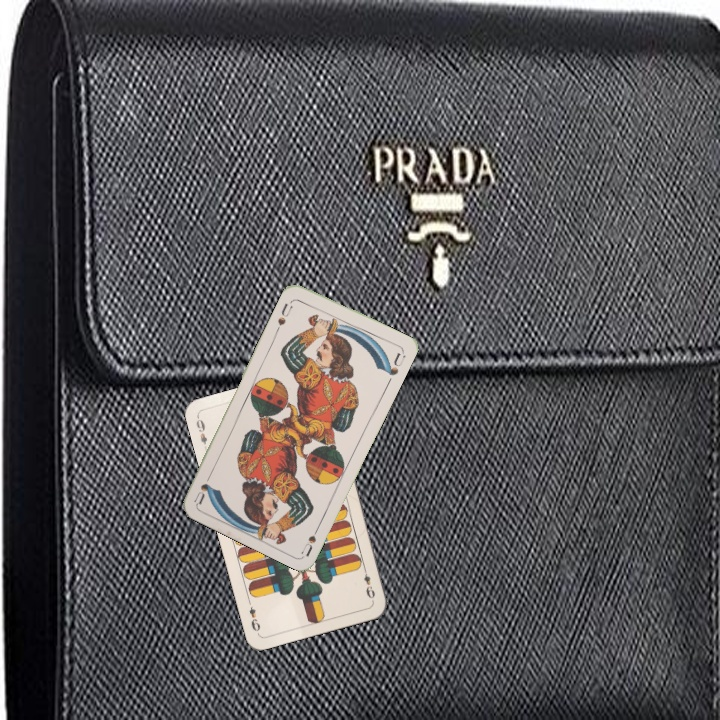E9: (359, 563, 378, 601), (192, 413, 210, 453)
SU: (298, 519, 324, 558), (272, 299, 295, 333)
